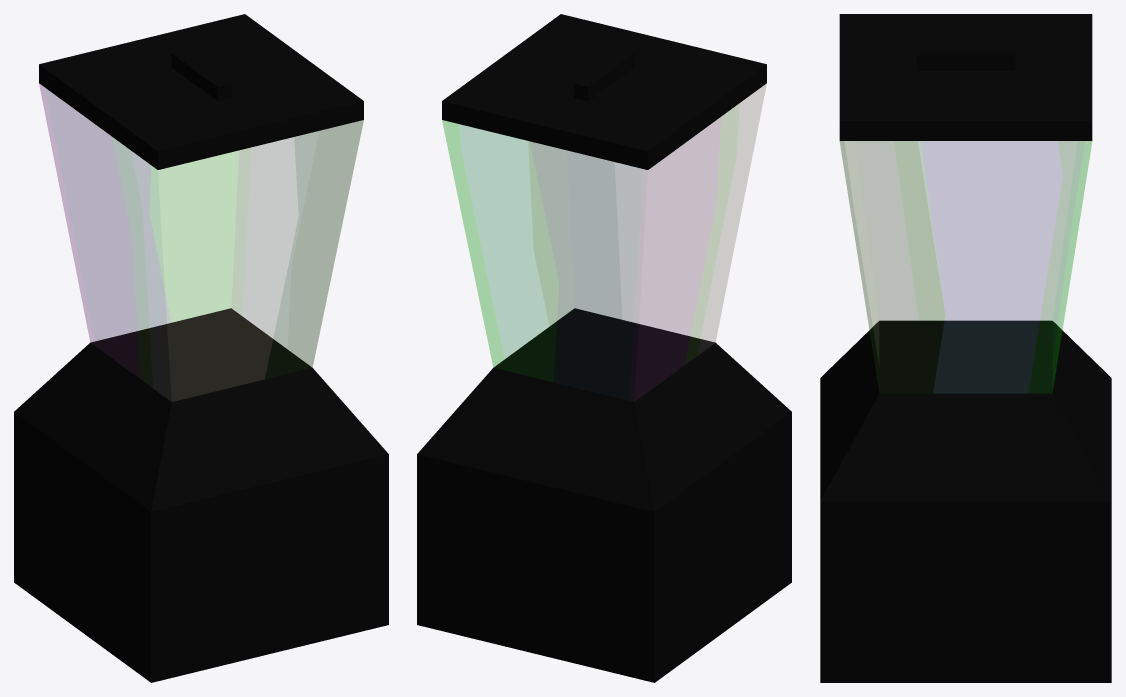
The model's file is blender.glb.
3 views of the same model, side by side, from view 1: azimuth 30°, elevation 25°; view 2: azimuth 150°, elevation 25°; view 3: azimuth 270°, elevation 25° (orthographic). The views are drawn at different scales.
Visible parts, largest first — view 1: Cube; view 2: Cube; view 3: Cube.
Boxes of the visible parts, x1,y1,x2,y2 form: Cube: [14, 14, 388, 682]; Cube: [417, 14, 791, 682]; Cube: [820, 14, 1111, 682].
Bounding box in the file's own units: 0.4 × 0.8615 × 0.4.
2 materials, 1 textured.
